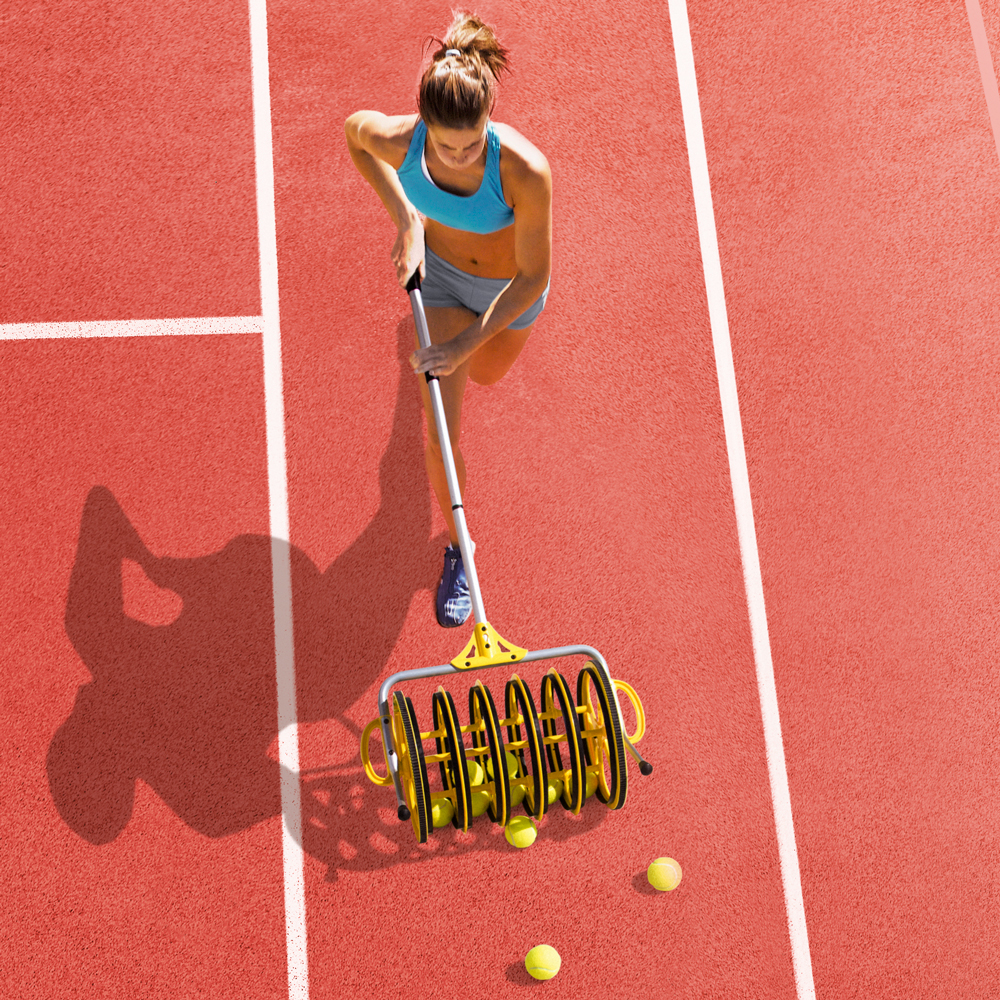tennis_ball: (459, 754, 493, 824), (642, 855, 686, 894), (523, 945, 561, 983), (503, 816, 537, 850), (426, 799, 448, 831)
